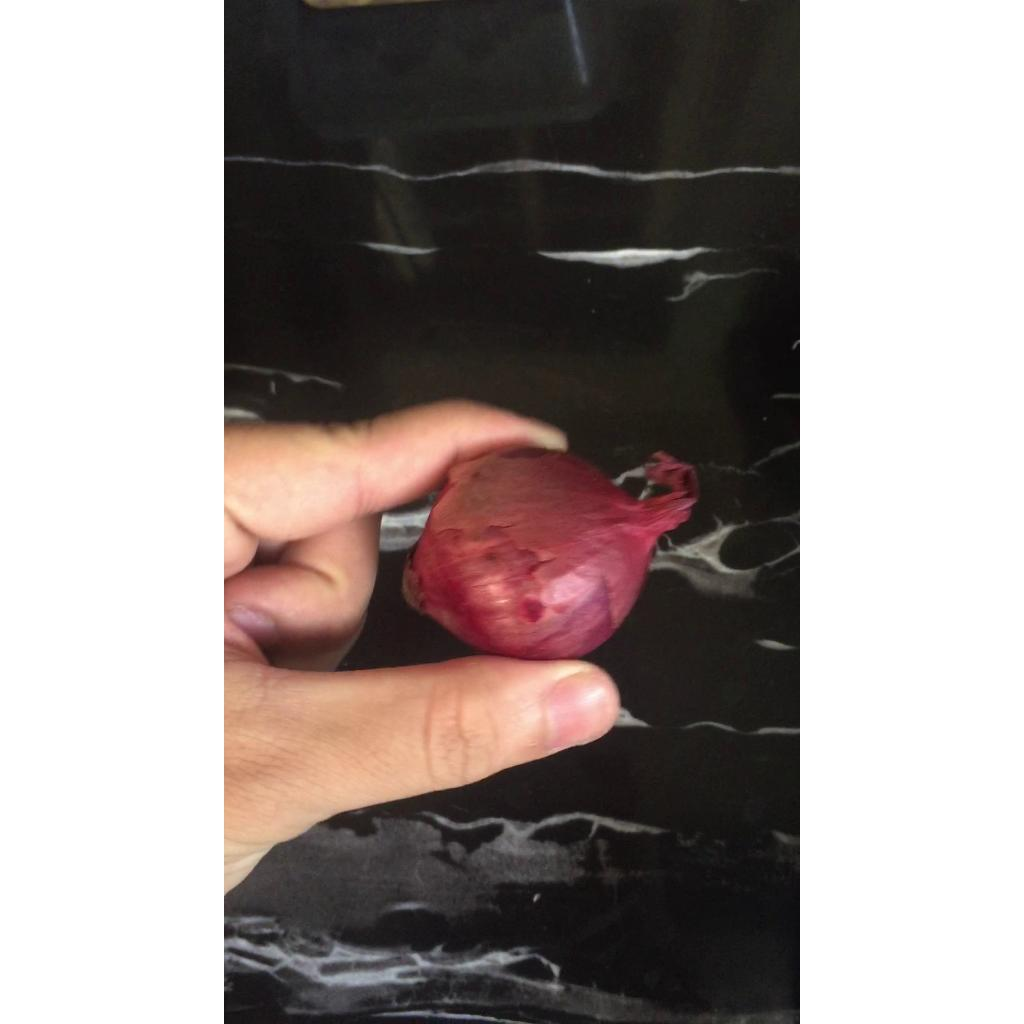Onion: (403, 447, 698, 660)
